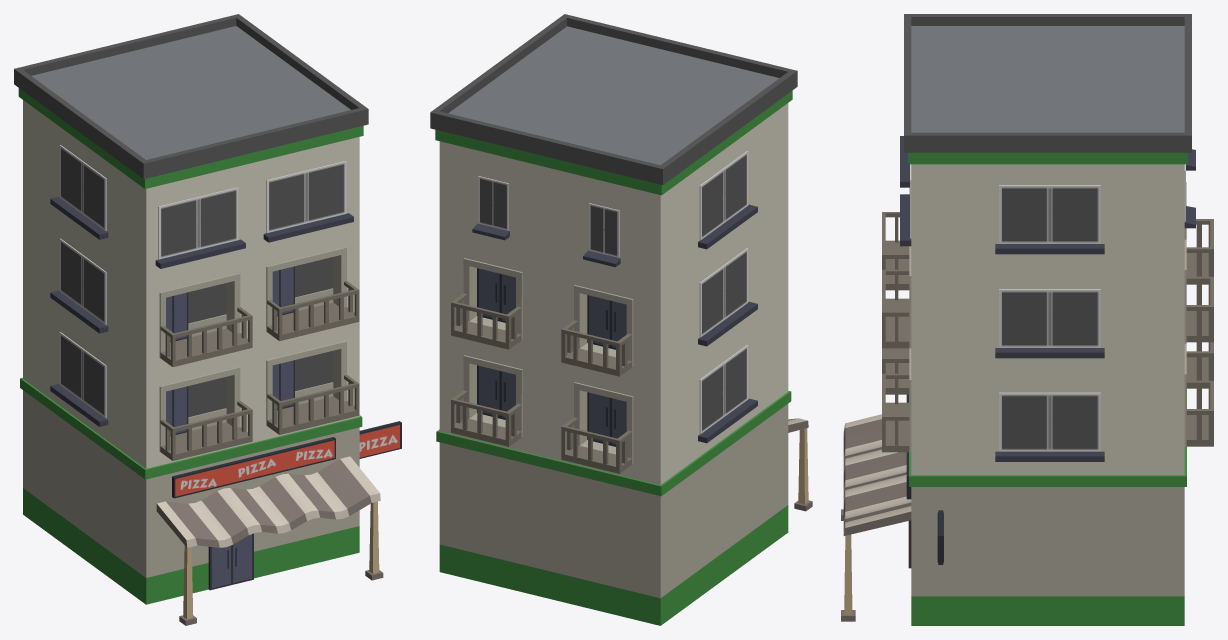
Rendered from pizza01_color03.fbx.
The picture shows the model from 3 angles, left to right: view 1: azimuth 30°, elevation 25°; view 2: azimuth 150°, elevation 25°; view 3: azimuth 270°, elevation 25°; orthographic projection. The views are drawn at different scales.
Parts seen in each view (by area): view 1: pizza01_color03; view 2: pizza01_color03; view 3: pizza01_color03.
Part boxes in pixels (x1,y1,x2,y2): pizza01_color03: (14,14,401,625); pizza01_color03: (430,14,812,625); pizza01_color03: (841,14,1213,625).
Bounding box in the file's own units: 1167 × 1792 × 1227.
